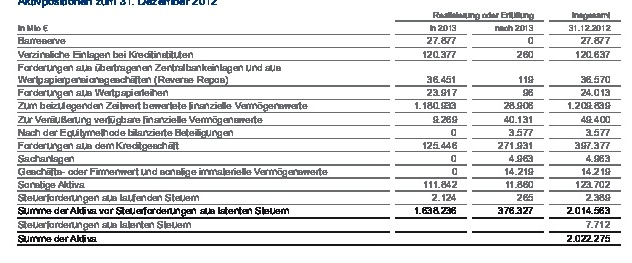table: (0, 0, 632, 263)
